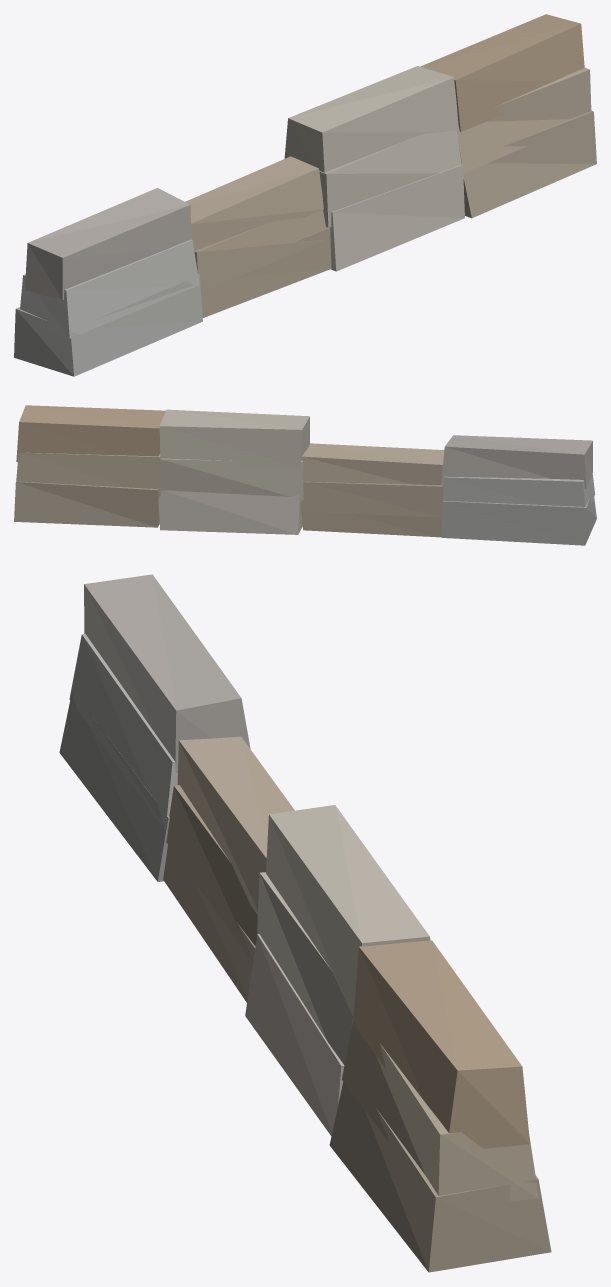
File: farm_-39_-49_mid.glb
3 renders of one model, top to bottom at view 1: azimuth 30°, elevation 25°; view 2: azimuth 150°, elevation 25°; view 3: azimuth 270°, elevation 25°, orthographic. The views are drawn at different scales.
Visible parts, largest first — view 1: geometry_0; view 2: geometry_0; view 3: geometry_0.
Boxes of the visible parts, left/top/right/bottom form: geometry_0: left=14, top=14, right=596, bottom=376; geometry_0: left=14, top=405, right=596, bottom=545; geometry_0: left=59, top=574, right=551, bottom=1272.
Bounding box in the file's own units: 6.18 × 1.34 × 2.67.
